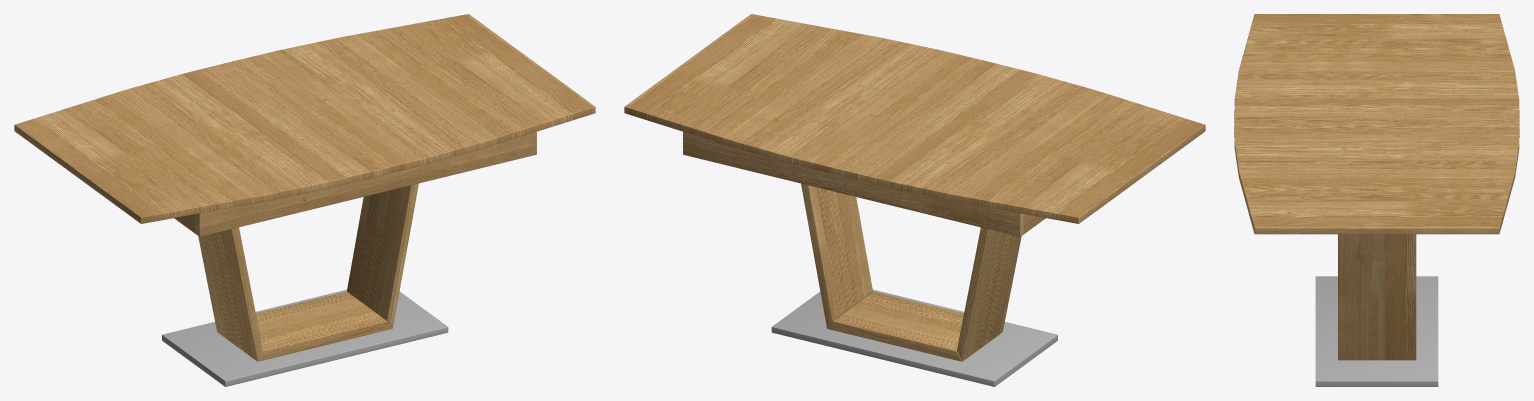
The model's file is B07K7SJWCH.glb.
3 views of the same model, side by side, from view 1: azimuth 30°, elevation 25°; view 2: azimuth 150°, elevation 25°; view 3: azimuth 270°, elevation 25° (orthographic). The views are drawn at different scales.
Parts seen in each view (by area): view 1: B07K7SJWCH; view 2: B07K7SJWCH; view 3: B07K7SJWCH.
Boxes of the visible parts, x1,y1,x2,y2 form: B07K7SJWCH: (14,14,595,386); B07K7SJWCH: (624,14,1205,386); B07K7SJWCH: (1234,14,1519,386).
Size of the model in its own units: 1.6 by 0.7476 by 0.9.
1 material, 1 textured.
